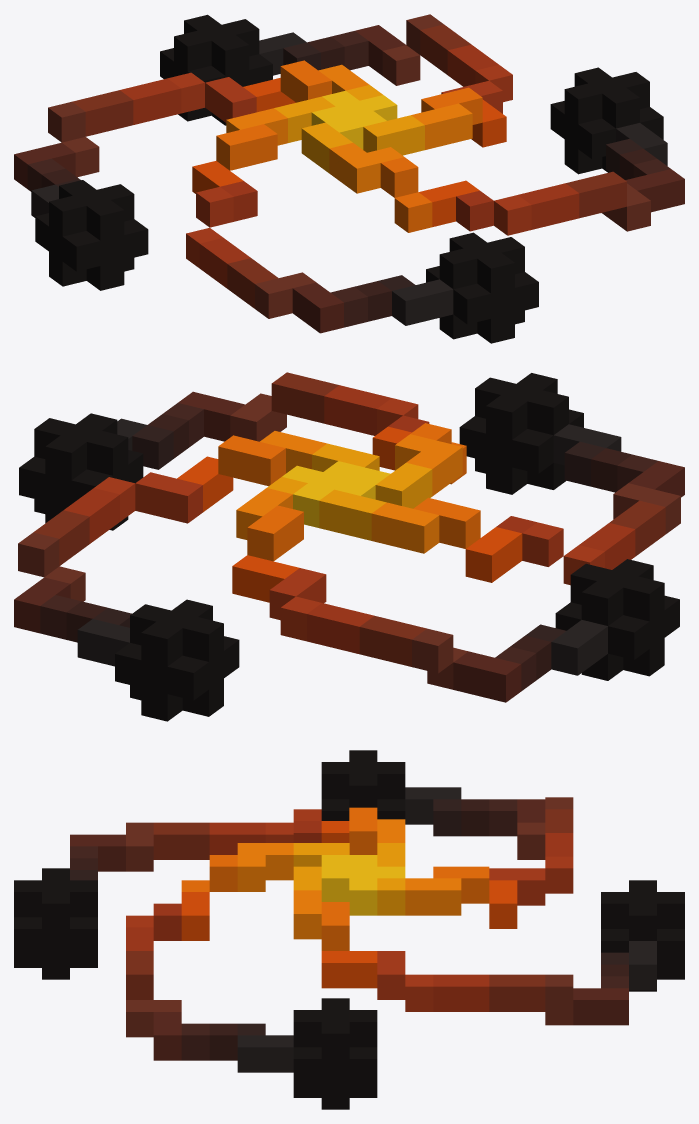
File: vfx_dinotamer_dragon_net_thrown_01.fbx
3 views of the same model, one above another, from view 1: azimuth 30°, elevation 25°; view 2: azimuth 150°, elevation 25°; view 3: azimuth 270°, elevation 25° (orthographic). The views are drawn at different scales.
Visible parts, largest first — view 1: vfx_dinoTamer_dragon_net_thrown_02:model_vfx_dinoTamer_drago; view 2: vfx_dinoTamer_dragon_net_thrown_02:model_vfx_dinoTamer_drago; view 3: vfx_dinoTamer_dragon_net_thrown_02:model_vfx_dinoTamer_drago.
Part boxes in pixels (box(x1,y1,x2,y2)): vfx_dinoTamer_dragon_net_thrown_02:model_vfx_dinoTamer_drago: box(14, 14, 684, 343); vfx_dinoTamer_dragon_net_thrown_02:model_vfx_dinoTamer_drago: box(14, 372, 684, 721); vfx_dinoTamer_dragon_net_thrown_02:model_vfx_dinoTamer_drago: box(14, 750, 684, 1109).
Size of the model in its own units: 24 by 4 by 24.
